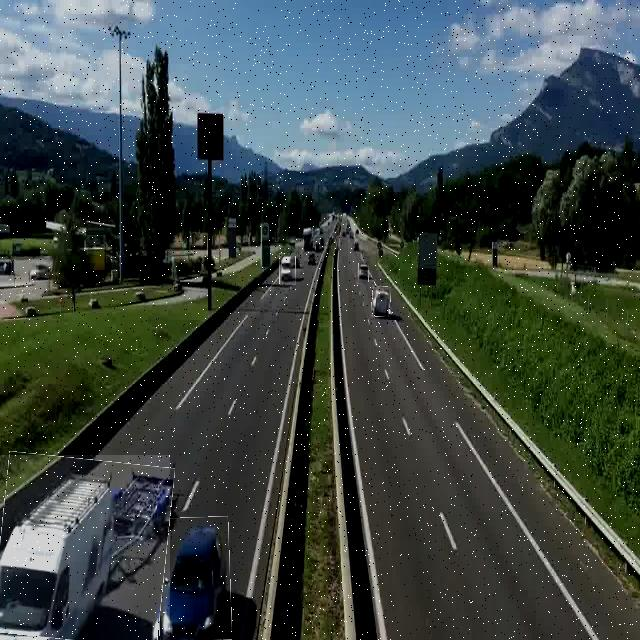Car: (157, 516, 231, 640), (372, 287, 391, 317), (279, 253, 296, 285), (359, 260, 369, 284)
Truck: (0, 455, 170, 640)
